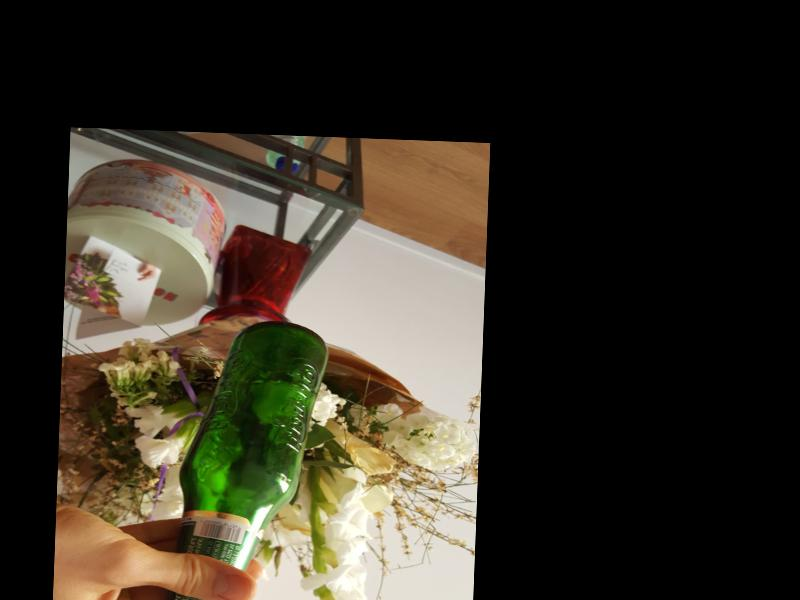Beer: (172, 318, 328, 600)
